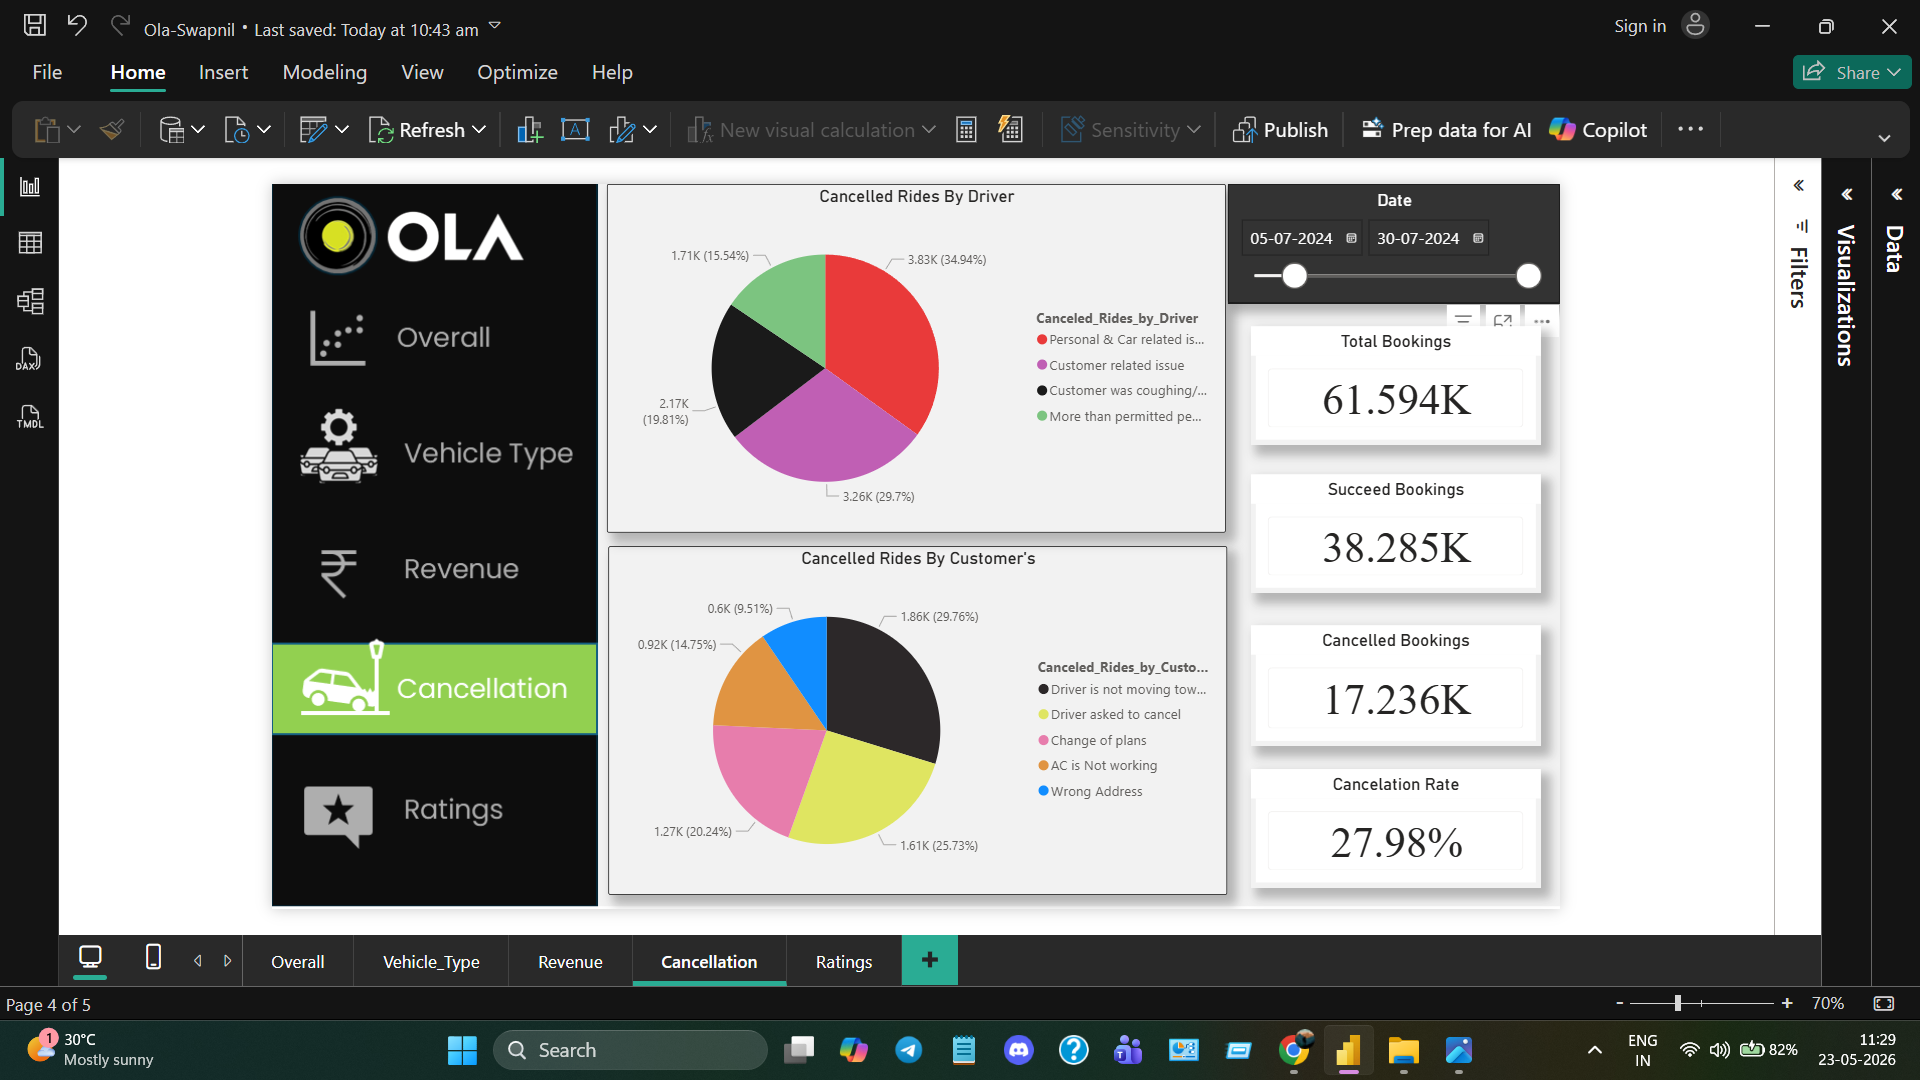

The dashboard page shown, as its layout file describes it:
{"tool":"powerbi","page":{"name":"Cancellation ","canvas":[1280,720],"ordinal":3},"visuals":[{"type":"actionButton","box":[0,222,322,89.8],"z":0},{"type":"actionButton","box":[0,337.3,322,89.8],"z":1000},{"type":"actionButton","box":[0,581.4,322,89.8],"z":2000},{"type":"actionButton","box":[0,110.2,322,89.8],"z":3000},{"type":"pieChart","title":"Cancelled Rides By Customer''s ","fields":{"Y":["CountNonNull(July.Canceled_Rides_by_Customer)"],"Category":["July.Canceled_Rides_by_Customer"]},"box":[335,360,615,346.7],"z":4000},{"type":"pieChart","title":"Cancelled Rides By Driver","fields":{"Y":["CountNonNull(July.Canceled_Rides_by_Driver)"],"Category":["July.Canceled_Rides_by_Driver"]},"box":[333.3,0,615,346.7],"z":5000},{"type":"slicer","title":"Date","fields":{"Values":["July.Date"]},"box":[950,0,330,118.3],"z":6000},{"type":"cardVisual","title":"Total Bookings","fields":{"Data":["CountNonNull(July.Booking_ID)"]},"box":[973.3,141.7,288.3,118.3],"z":7000},{"type":"cardVisual","title":"Succeed Bookings","fields":{"Data":["CountNonNull(July.Booking_ID)"]},"box":[973.3,288.3,288.3,118.3],"z":8000},{"type":"cardVisual","title":"Cancelled Bookings","fields":{"Data":["CountNonNull(July.Booking_ID)"]},"box":[973.3,438.3,288.3,120],"z":9000},{"type":"cardVisual","title":"Cancelation Rate","fields":{"Data":["July.CancelationPercentage"]},"box":[973.3,581.7,288.3,118.3],"z":10000}]}

Visuals, with their boxes on the page's 1280x720 design canvas (x1, y1, x2, y2). These are canvas units, not pixel positions in the 1920x1080 screenshot, which may show the page scaled, cropped or inside an application window:
actionButton: crop(0, 222, 322, 312)
actionButton: crop(0, 337, 322, 427)
actionButton: crop(0, 581, 322, 671)
actionButton: crop(0, 110, 322, 200)
"Cancelled Rides By Customer''s " pieChart: crop(335, 360, 950, 707)
"Cancelled Rides By Driver" pieChart: crop(333, 0, 948, 347)
"Date" slicer: crop(950, 0, 1280, 118)
"Total Bookings" cardVisual: crop(973, 142, 1262, 260)
"Succeed Bookings" cardVisual: crop(973, 288, 1262, 407)
"Cancelled Bookings" cardVisual: crop(973, 438, 1262, 558)
"Cancelation Rate" cardVisual: crop(973, 582, 1262, 700)
